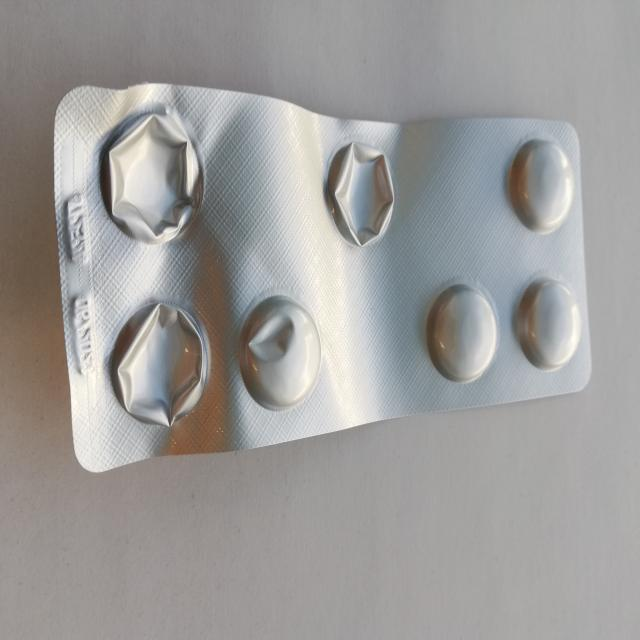Empty: (90, 102, 207, 252), (104, 294, 218, 430), (319, 135, 403, 254)
Pill: (234, 285, 322, 415), (421, 276, 501, 393), (512, 265, 588, 378), (506, 128, 575, 242)
